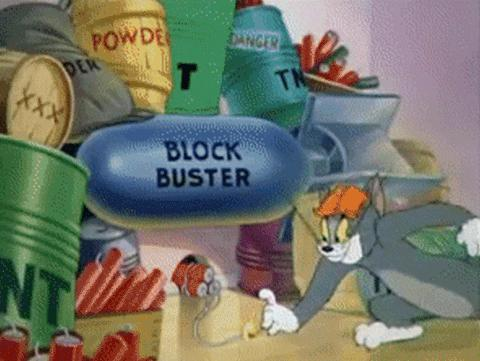tom: (256, 173, 480, 351)
